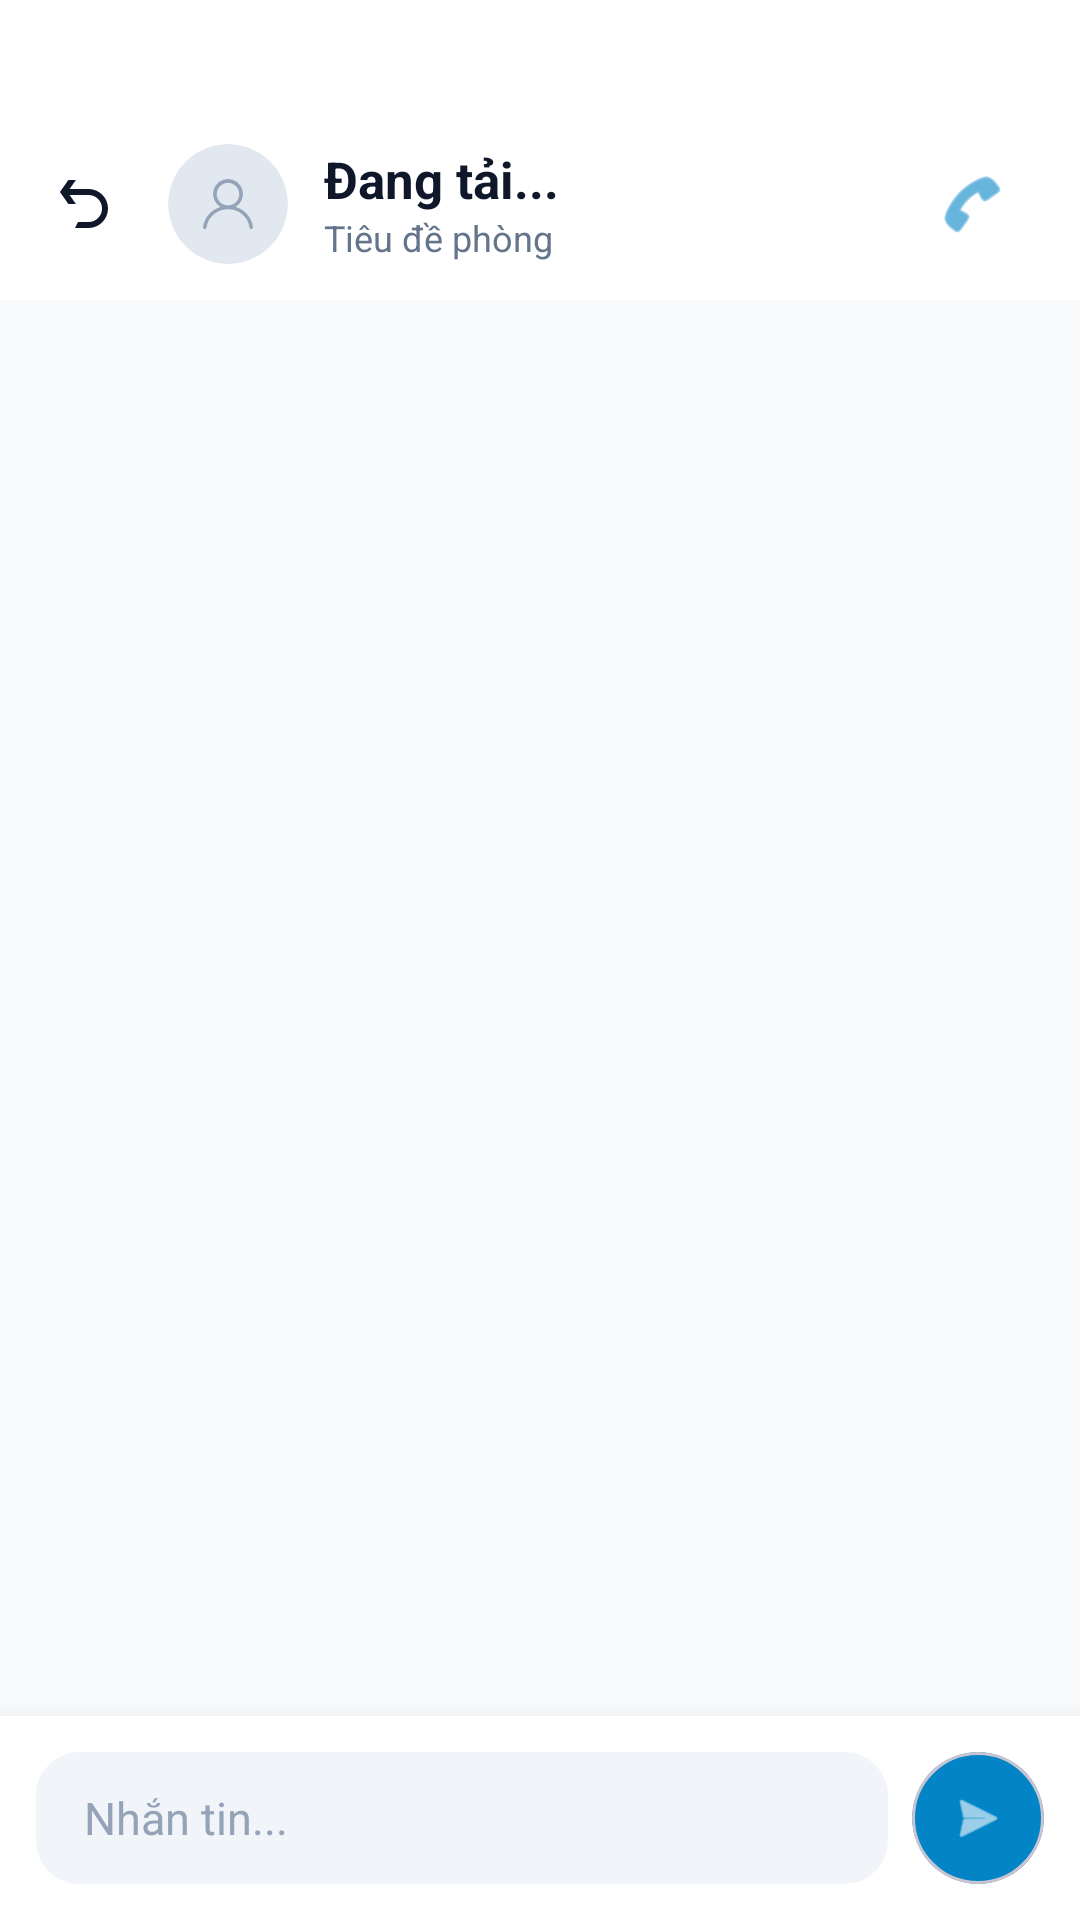

Named icons in this screenshot (1080×1920) and their centers, [x,y]:
back custom: [84,204]
call: [972,204]
send: [978,1818]
